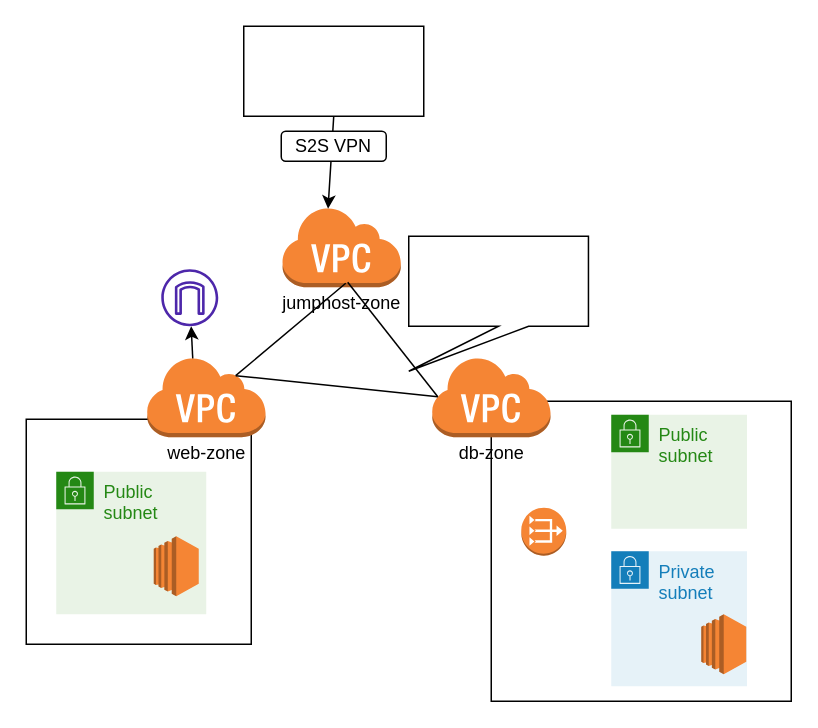
Some shapes in this 818 by 728 pixel diagram are drawn without their labels. Each missing label, with the box of its shape:
my azure env: (242, 25, 424, 116)
VPC peering between each and other vpcs: (407, 235, 588, 371)
